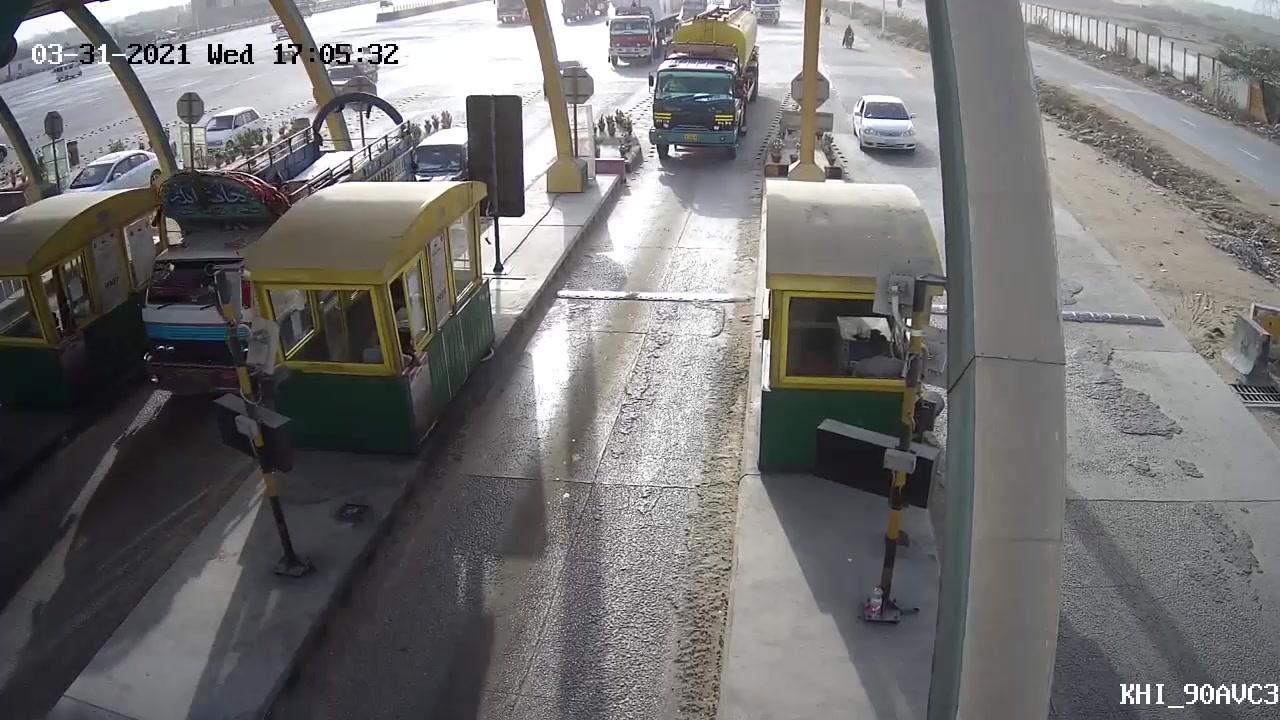F5: (634, 11, 760, 165)
